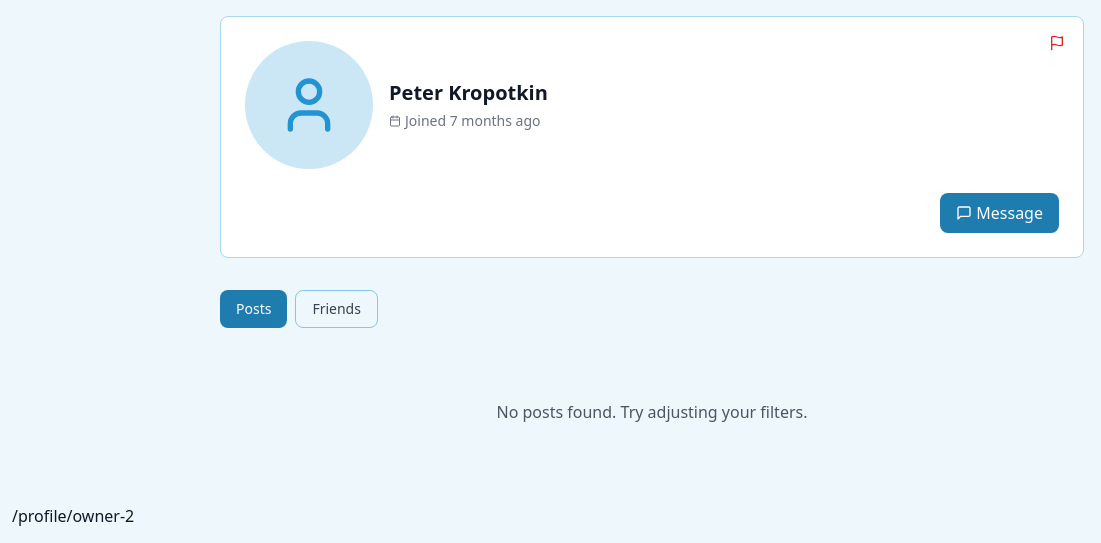
Test case: ProfilePage posts/friends tabs › shows posts by default and switches to the friends list when the Friends tab is clicked
Expected: the heading "Peter Kropotkin" is shown, [389, 79, 548, 106]
Step 1. Click the tab "Friends" → (337, 309), box [295, 290, 378, 328]
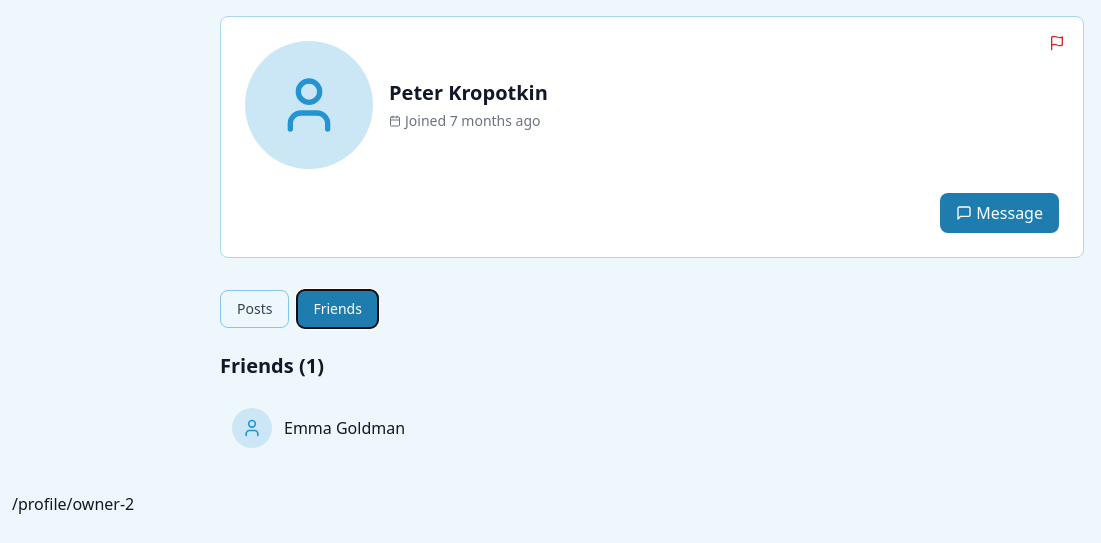
Expected: the link "Emma Goldman" is shown, [232, 408, 405, 448]
